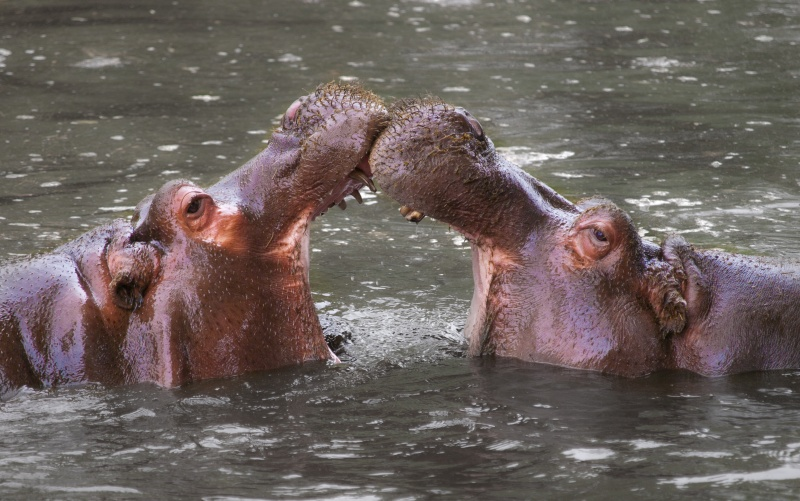hipopotamo: (384, 73, 800, 404), (2, 78, 390, 423)
